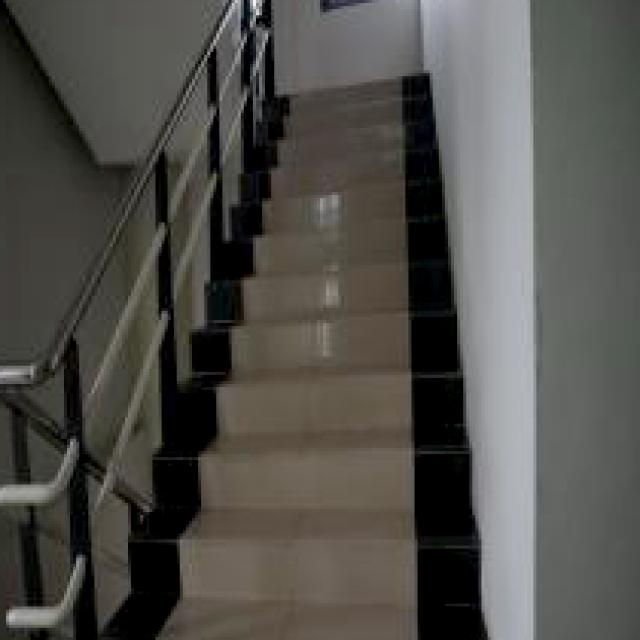upstair: (260, 77, 495, 640)
